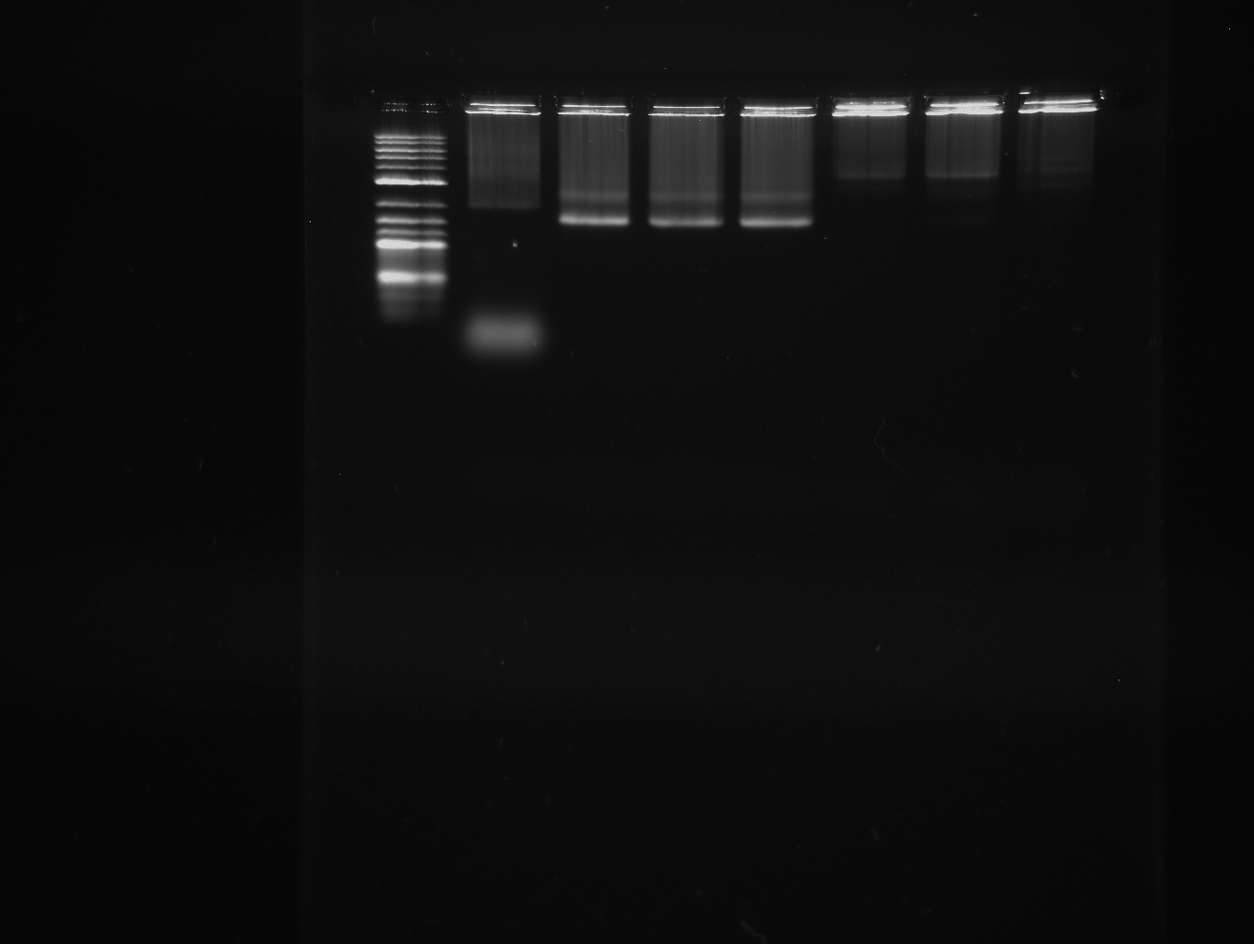Lane: (1012, 18, 1106, 944), (549, 7, 639, 944), (733, 12, 821, 944), (830, 9, 915, 944), (459, 12, 541, 935), (924, 16, 1002, 944), (648, 9, 723, 939)
ladder: (372, 9, 440, 926)
